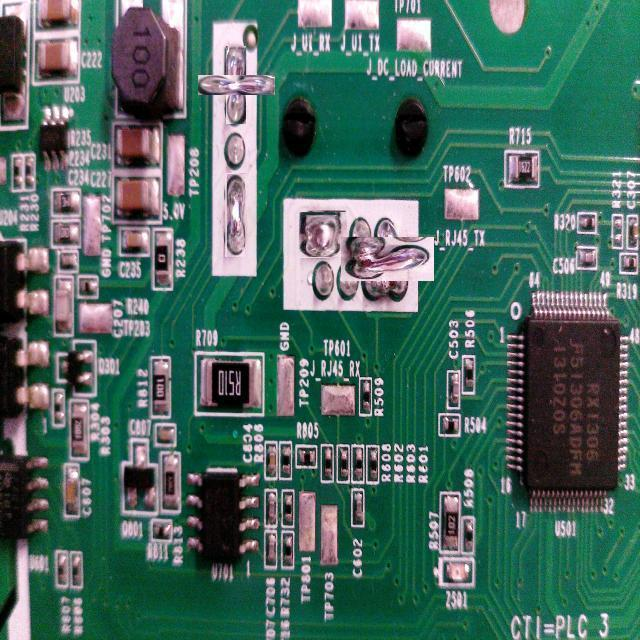Short_circuit: (353, 224, 422, 294), (212, 60, 261, 110), (299, 210, 346, 258), (226, 173, 246, 257)
